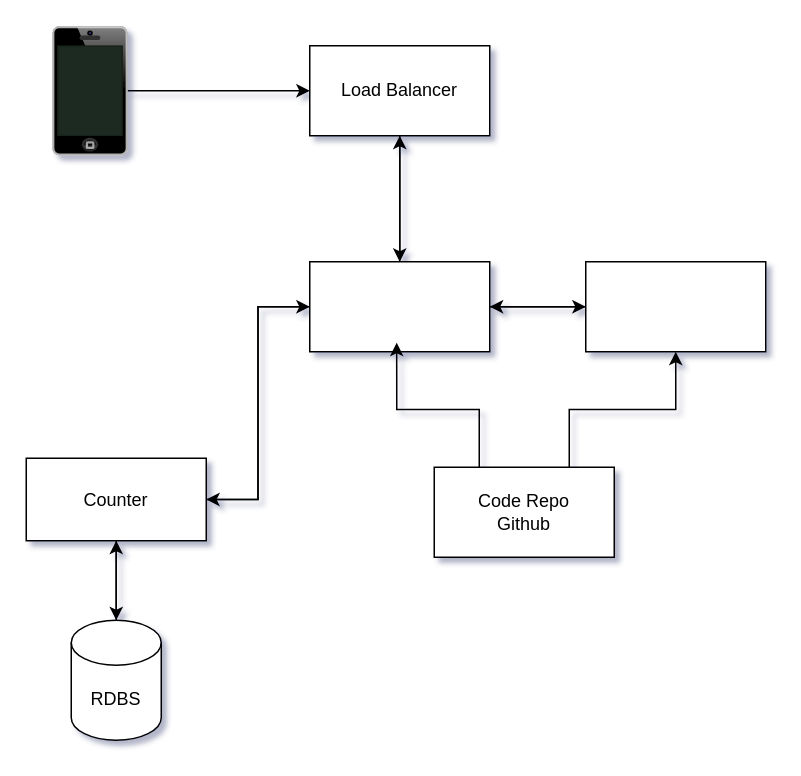
Image size: 801x776. Some labels were removed from this diagram. The centre of each missing label's shape, as x and y in pixels:
"Back End" goes at point (675, 306).
"Front End" goes at point (399, 306).
